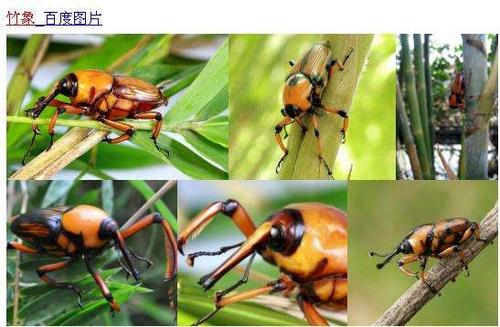Curculionidae: (178, 198, 348, 327), (6, 203, 178, 323), (21, 69, 170, 165), (274, 40, 354, 182), (366, 217, 494, 301), (448, 68, 489, 116)
